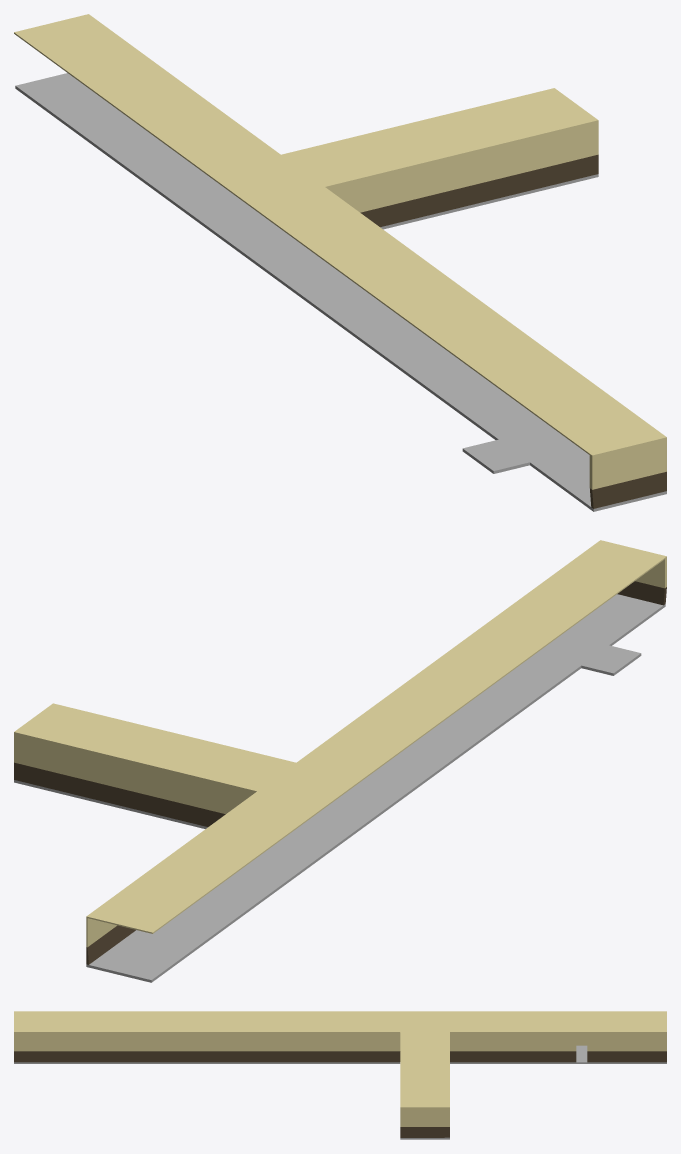
The model's file is interior_school_room_east_01.fbx.
The picture shows the model from 3 angles, top to bottom: view 1: azimuth 30°, elevation 25°; view 2: azimuth 150°, elevation 25°; view 3: azimuth 270°, elevation 25°; orthographic projection. The views are drawn at different scales.
Parts seen in each view (by area): view 1: Visible Mesh; view 2: Visible Mesh; view 3: Visible Mesh.
Boxes of the visible parts, <box> form: Visible Mesh: <box>14,14,666,511</box>; Visible Mesh: <box>14,540,666,982</box>; Visible Mesh: <box>14,1011,666,1139</box>.
Bounding box in the file's own units: 2683 × 380 × 7014.
